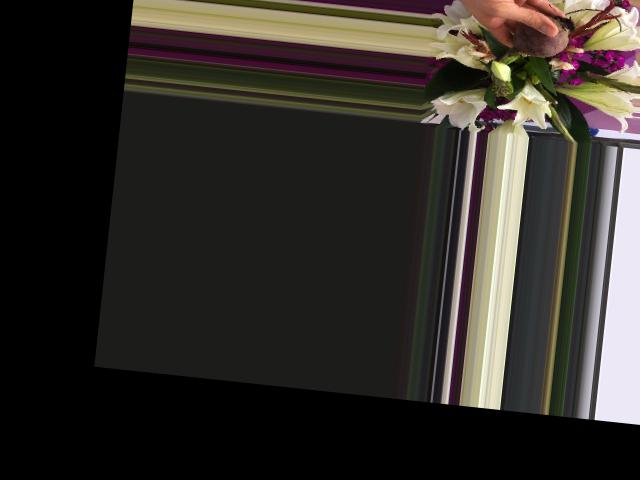beet: (495, 9, 576, 70)
